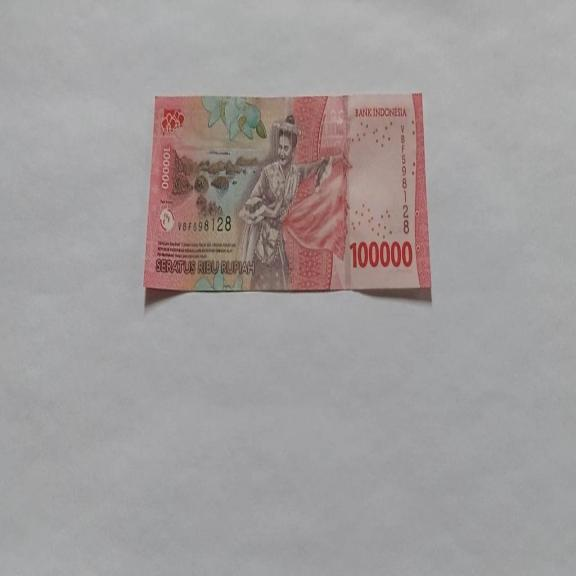Kertas: (142, 91, 432, 298), (349, 238, 413, 270)
